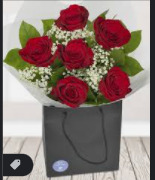RedRose: (94, 11, 129, 50), (19, 31, 53, 65), (53, 76, 90, 106), (100, 69, 133, 100), (52, 3, 87, 32), (60, 39, 93, 69)
